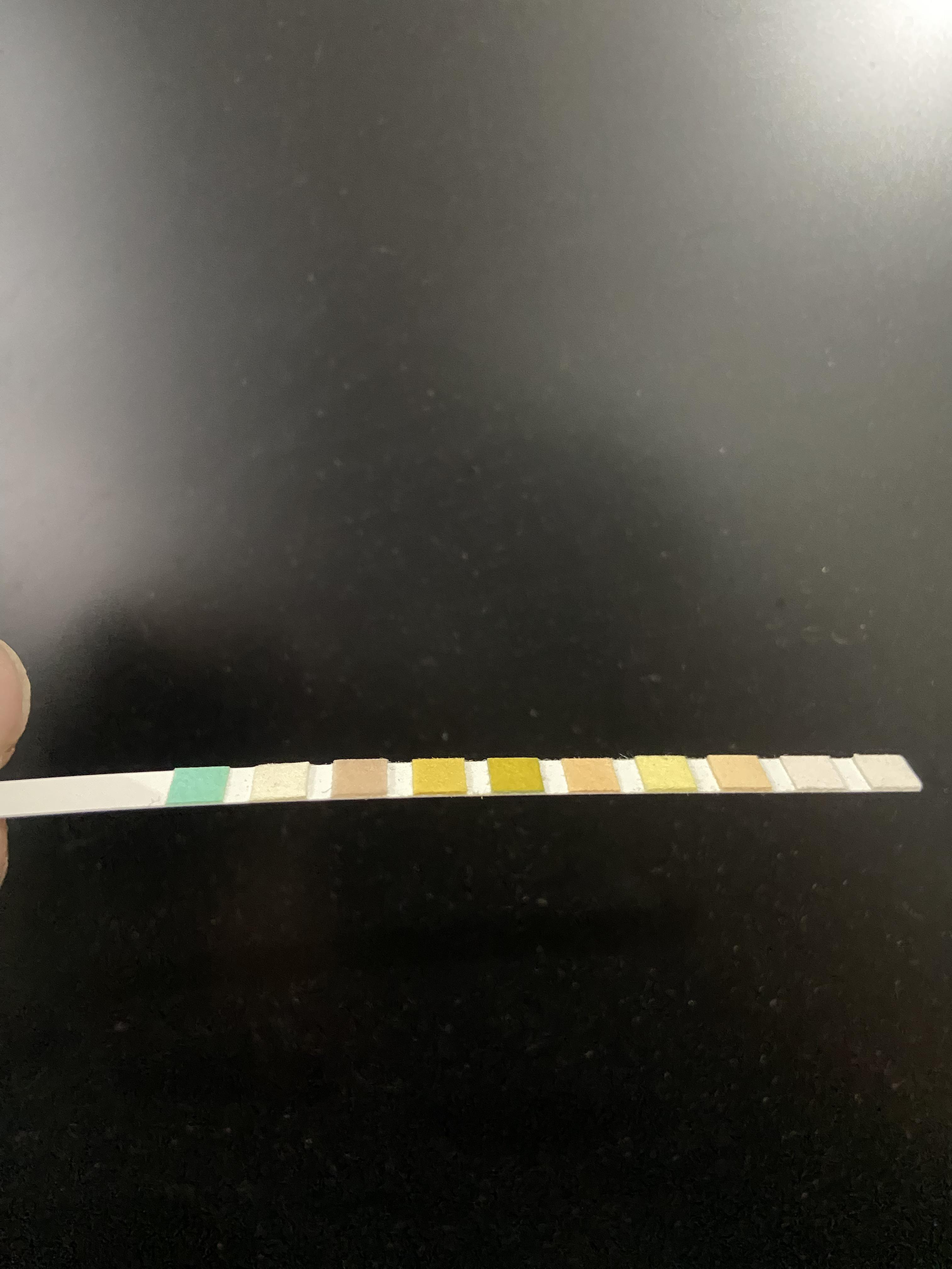Bilirubin: (256, 767, 303, 797)
Blood: (491, 759, 537, 790)
Glucose: (176, 769, 222, 801)
Ketone: (336, 759, 384, 795)
Leukocytes: (876, 756, 901, 787)
Nitrite: (800, 757, 828, 788)
Protein: (649, 757, 683, 787)
SpGravity: (416, 760, 466, 791)
Urobilinogen: (724, 757, 756, 787)
pH: (570, 760, 611, 790)
strip: (1, 754, 924, 818)
